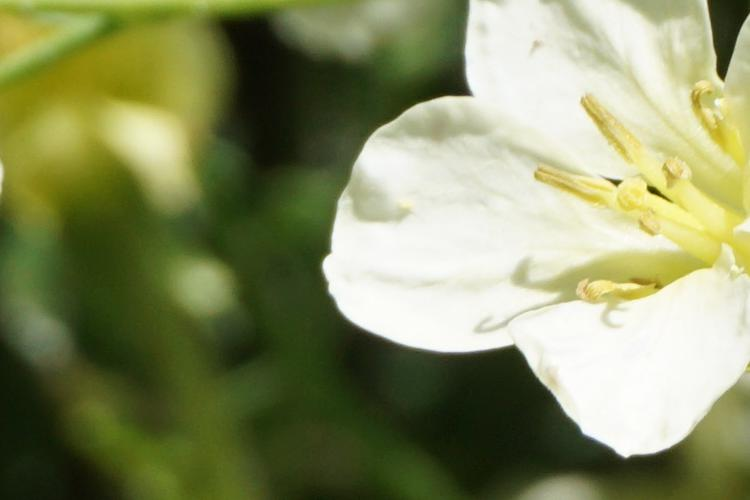white: (360, 28, 750, 440)
